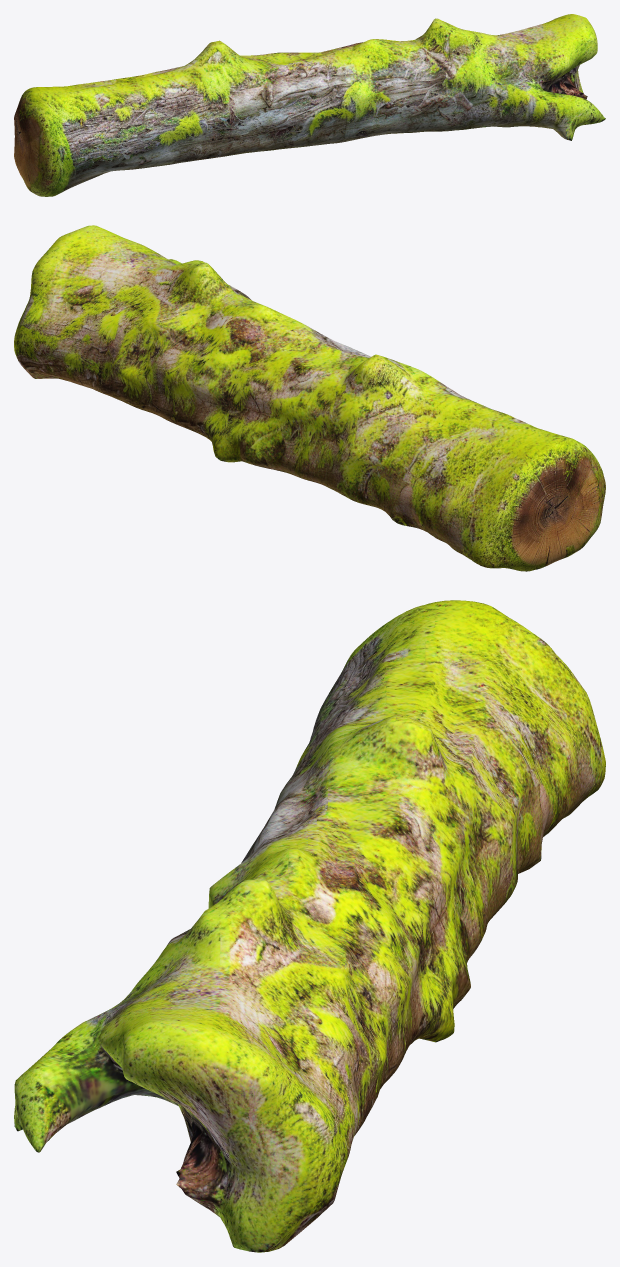
File: a_fallen_rotten_tree__0425083940_refine.fbx
3 renders of one model, top to bottom at view 1: azimuth 30°, elevation 25°; view 2: azimuth 150°, elevation 25°; view 3: azimuth 270°, elevation 25°, orthographic. The views are drawn at different scales.
Visible parts, largest first — view 1: Mesh_0; view 2: Mesh_0; view 3: Mesh_0.
Boxes of the visible parts, x1,y1,x2,y2 form: Mesh_0: (14,14,605,196); Mesh_0: (14,225,605,571); Mesh_0: (14,600,605,1252).
Bounding box in the file's own units: 120 × 27.96 × 61.83.
1 material, 1 textured.
